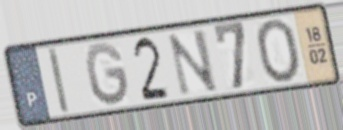2: (131, 35, 172, 104)
7: (211, 20, 250, 93)
G: (83, 40, 133, 109)
I: (45, 45, 72, 117)
N: (166, 27, 221, 99)
O: (254, 16, 304, 85)
